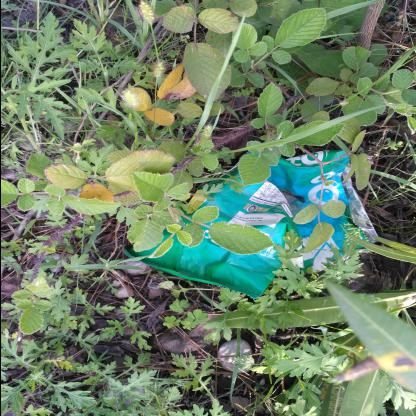plastik: (120, 150, 376, 300)
